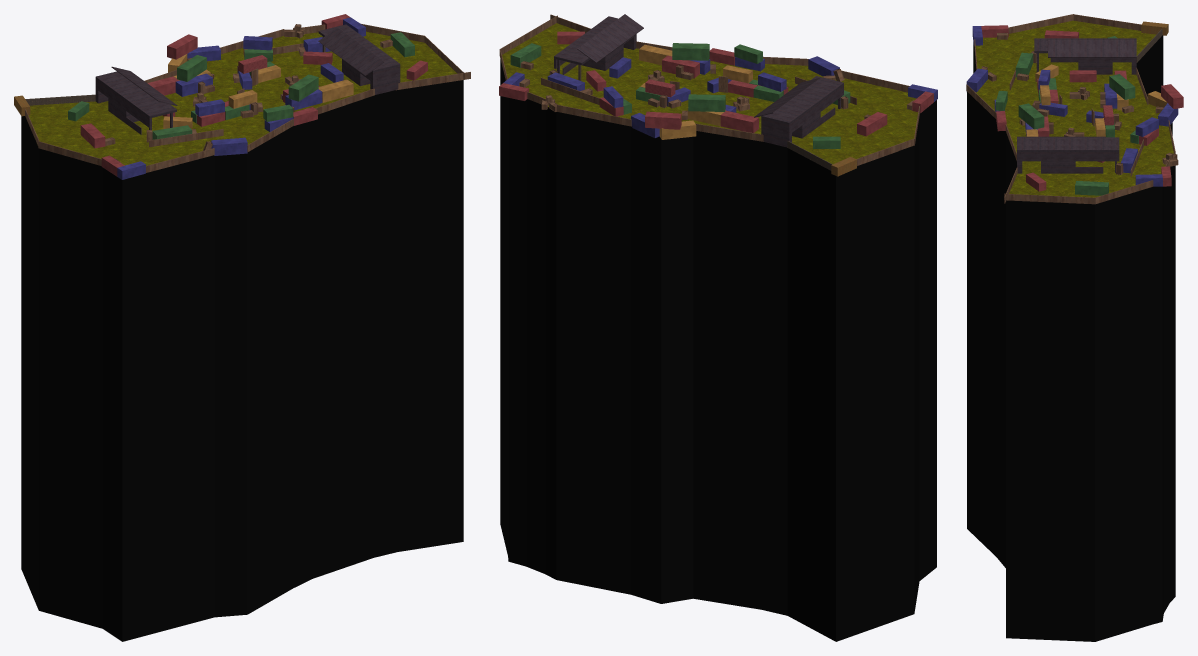
The model's file is blockmap.glb.
3 views of the same model, side by side, from view 1: azimuth 30°, elevation 25°; view 2: azimuth 150°, elevation 25°; view 3: azimuth 270°, elevation 25° (orthographic). The views are drawn at different scales.
Visible parts, largest first — view 1: Plane, Cube.003, Cube.042, Cube.063, Cube.104; view 2: Plane, Cube.003, Cube.042, Cube.063, Cube.046, Cube.006, Cube.001, Cube.098; view 3: Plane, Cube.042, Cube.023, Cube.003, Cube.104, Cube.106, Cube.046, Cube.006, Cube.040, Cube.105, Cube.098, Cube.004 (+2 smaller).
Boxes of the visible parts, x1,y1,x2,y2 form: Plane: (21,31,463,641); Cube.003: (95,71,176,127); Cube.042: (318,24,400,94); Cube.063: (318,27,384,75); Cube.104: (361,24,464,79); Plane: (500,23,936,641); Cube.003: (761,76,843,147); Cube.042: (554,16,636,70); Cube.063: (577,14,643,62); Cube.046: (672,43,709,60); Cube.006: (688,94,725,111); Cube.001: (720,110,758,132); Cube.098: (645,111,681,129); Plane: (967,20,1175,641); Cube.042: (1017,137,1119,173); Cube.023: (1048,40,1136,57); Cube.003: (1034,38,1136,74); Cube.104: (1004,180,1153,204); Cube.106: (1073,14,1141,30); Cube.046: (1018,103,1044,129); Cube.006: (1109,74,1135,99); Cube.040: (1075,181,1108,195); Cube.105: (1008,14,1073,33); Cube.098: (1161,84,1183,108); Cube.004: (1069,70,1096,82).
Size of the model in its own units: 138 by 163 by 68.8.
16 materials, 15 textured.
